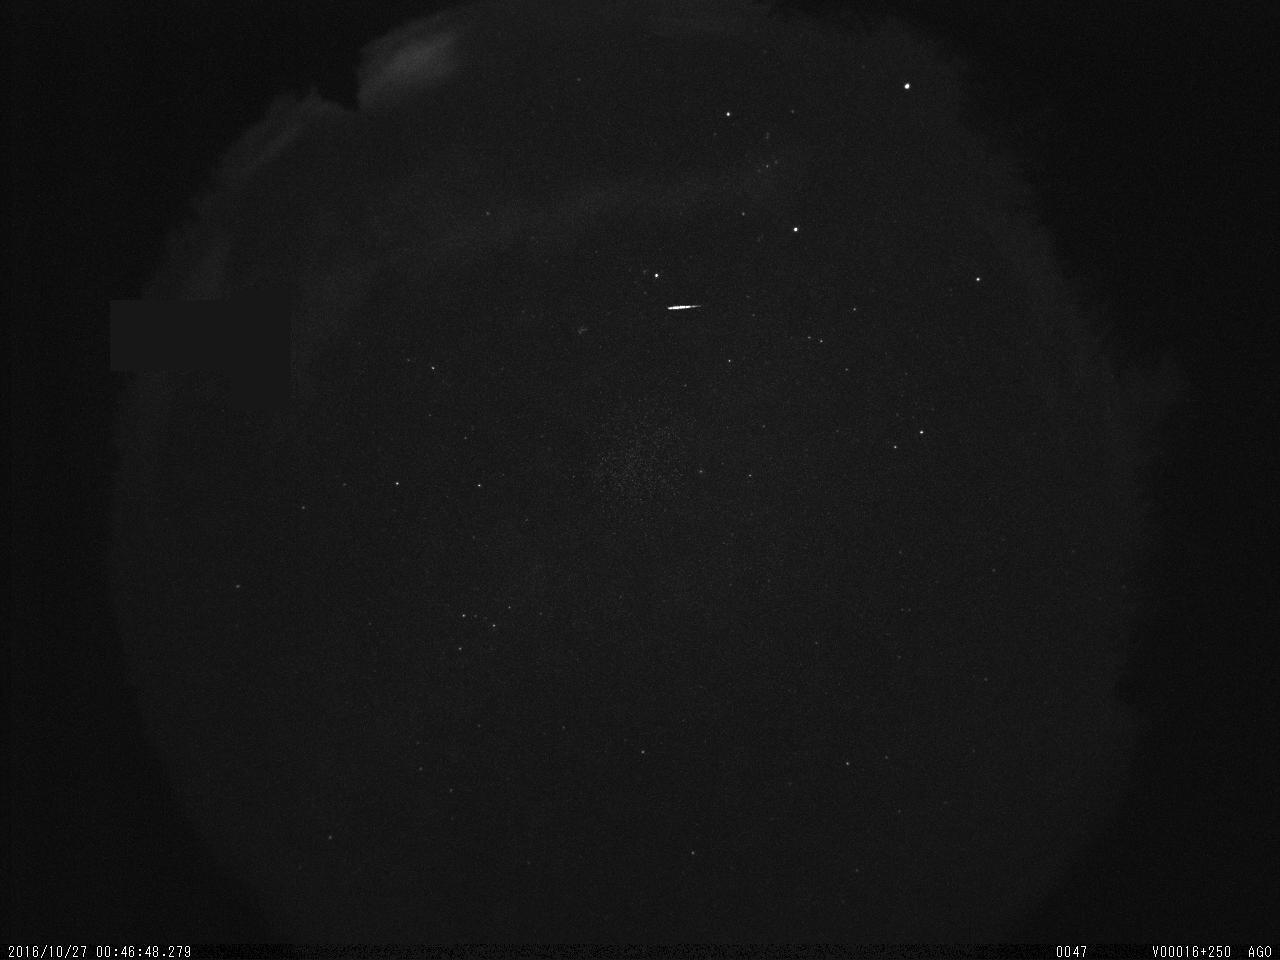meteor: (658, 298, 711, 316)
